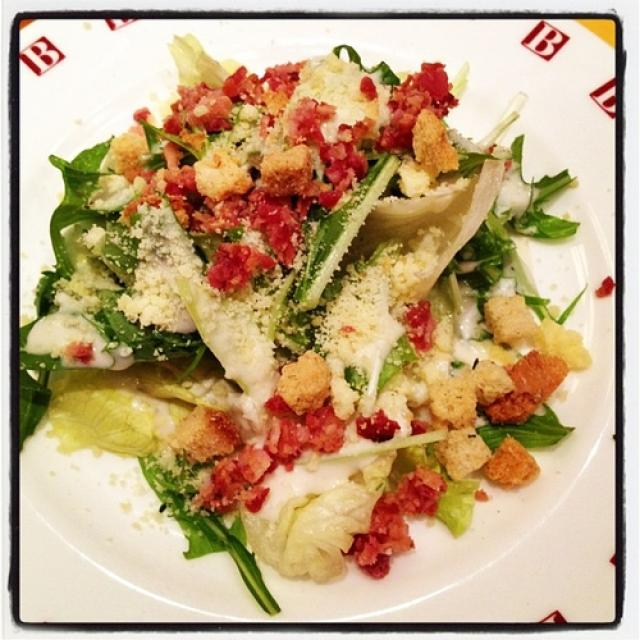蔬菜料理: (65, 58, 581, 552)
